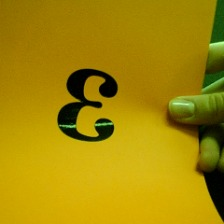orange3: (51, 66, 121, 144)
